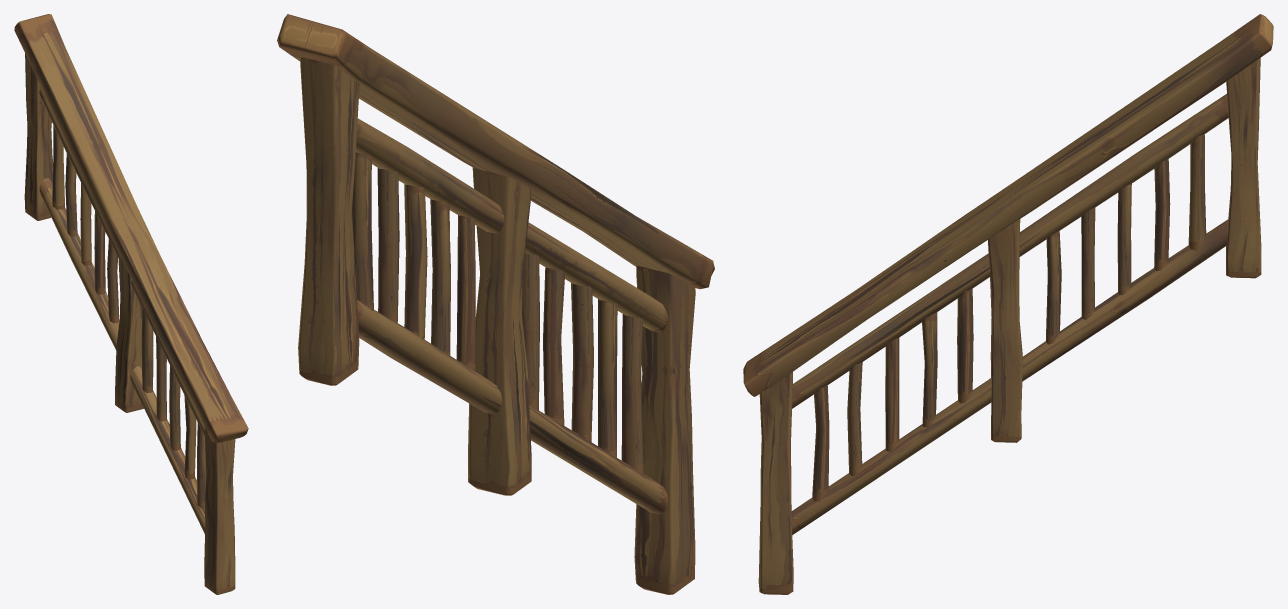
File: SM_MOD_railing_town_02_02.fbx
3 renders of one model, left to right at view 1: azimuth 30°, elevation 25°; view 2: azimuth 150°, elevation 25°; view 3: azimuth 270°, elevation 25°, orthographic. The views are drawn at different scales.
Parts seen in each view (by area): view 1: SM_MOD_railing_town_02_02_LOD0; view 2: SM_MOD_railing_town_02_02_LOD0; view 3: SM_MOD_railing_town_02_02_LOD0.
Boxes of the visible parts, <box> form: SM_MOD_railing_town_02_02_LOD0: <box>14,14,248,594</box>; SM_MOD_railing_town_02_02_LOD0: <box>277,14,714,594</box>; SM_MOD_railing_town_02_02_LOD0: <box>743,14,1273,594</box>.
Size of what is drawn, in the model's own units: 20.24 by 241 by 204.
